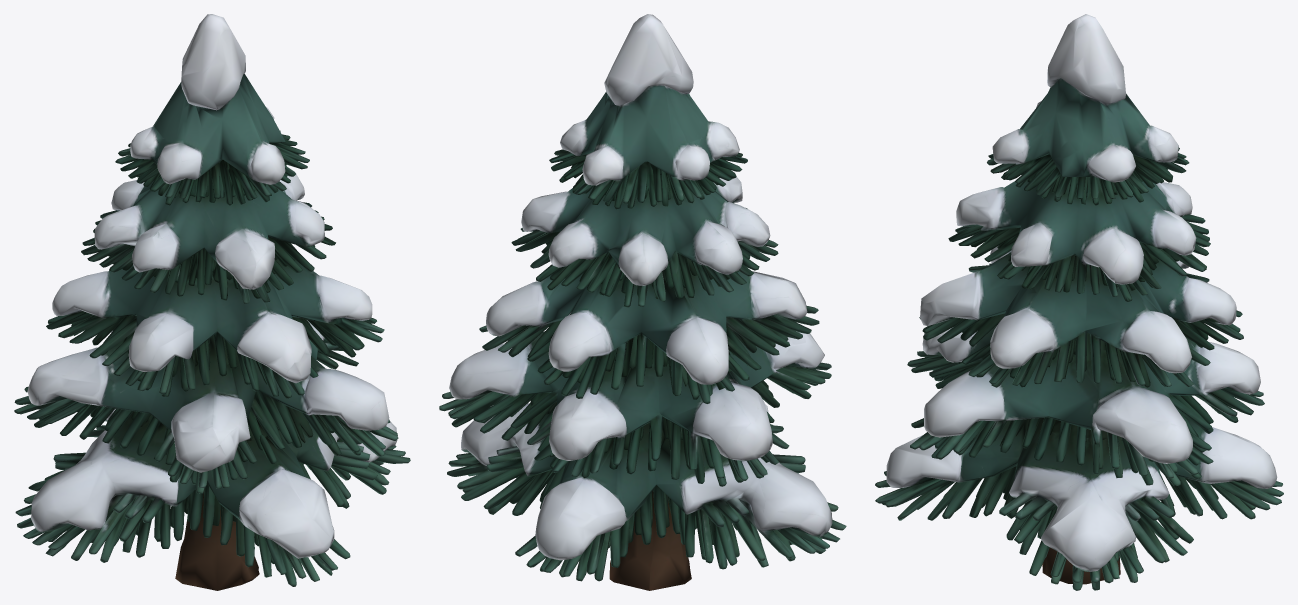
Rendered from tree-b.glb.
The picture shows the model from 3 angles, left to right: view 1: azimuth 30°, elevation 25°; view 2: azimuth 150°, elevation 25°; view 3: azimuth 270°, elevation 25°; orthographic projection.
Visible parts, largest first — view 1: node_0; view 2: node_0; view 3: node_0.
Part boxes in pixels (x1=…): node_0: x1=14, y1=14, x2=410, y2=590; node_0: x1=439, y1=14, x2=846, y2=590; node_0: x1=875, y1=14, x2=1283, y2=590.
Bounding box in the file's own units: 0.8235 × 1.18 × 0.7901.
1 material, 1 textured.
